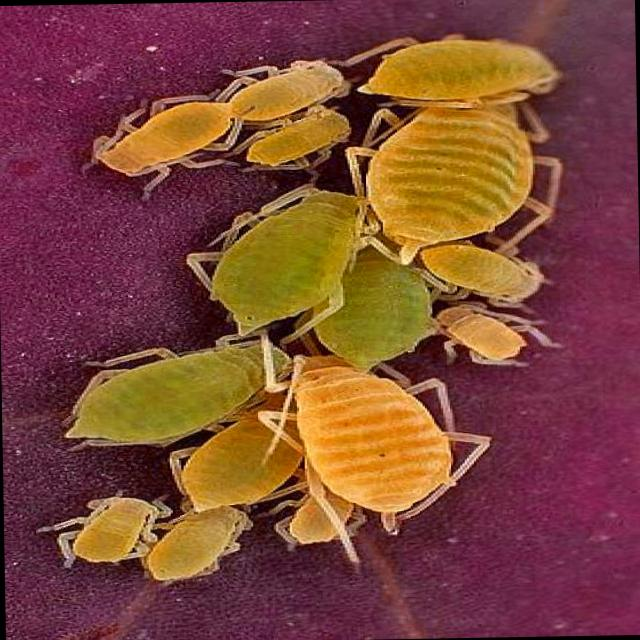aphid: (258, 346, 504, 545), (63, 300, 309, 454), (376, 82, 568, 255), (203, 180, 373, 350), (74, 88, 256, 204), (342, 25, 574, 102), (197, 42, 356, 132), (184, 413, 331, 504), (46, 484, 172, 584), (128, 506, 263, 586), (410, 242, 566, 309), (420, 307, 540, 364)
